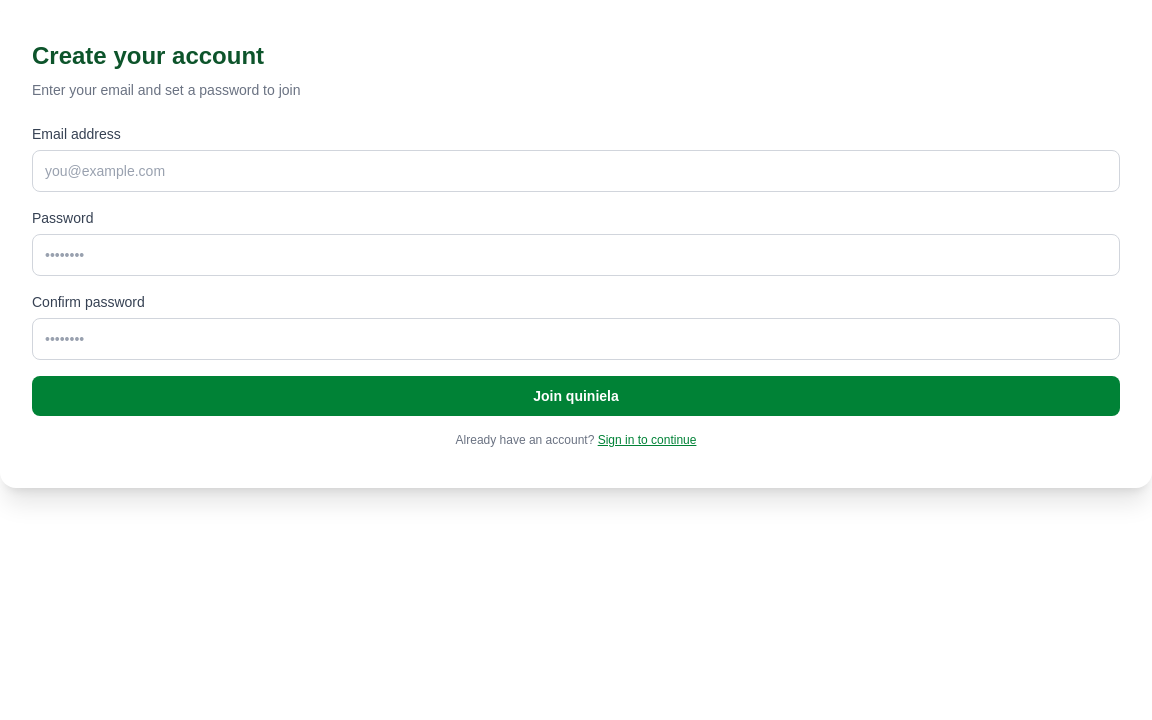
Scenario: InviteAcceptanceFlow (shortCode) › shows error when registration fails
Type "new@example.com" into the field labelled "Email address" at (576, 171), box [32,150,1120,192]
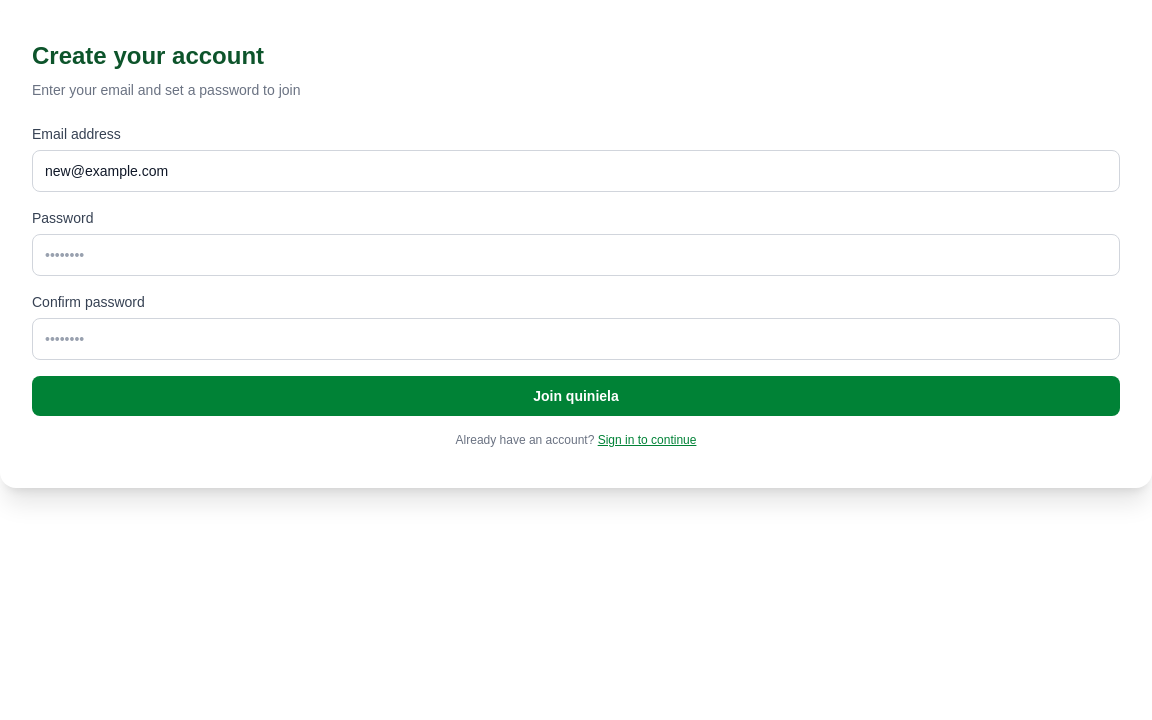
Type "password123" into the password field labelled "Password" at (576, 255), box [32,234,1120,276]
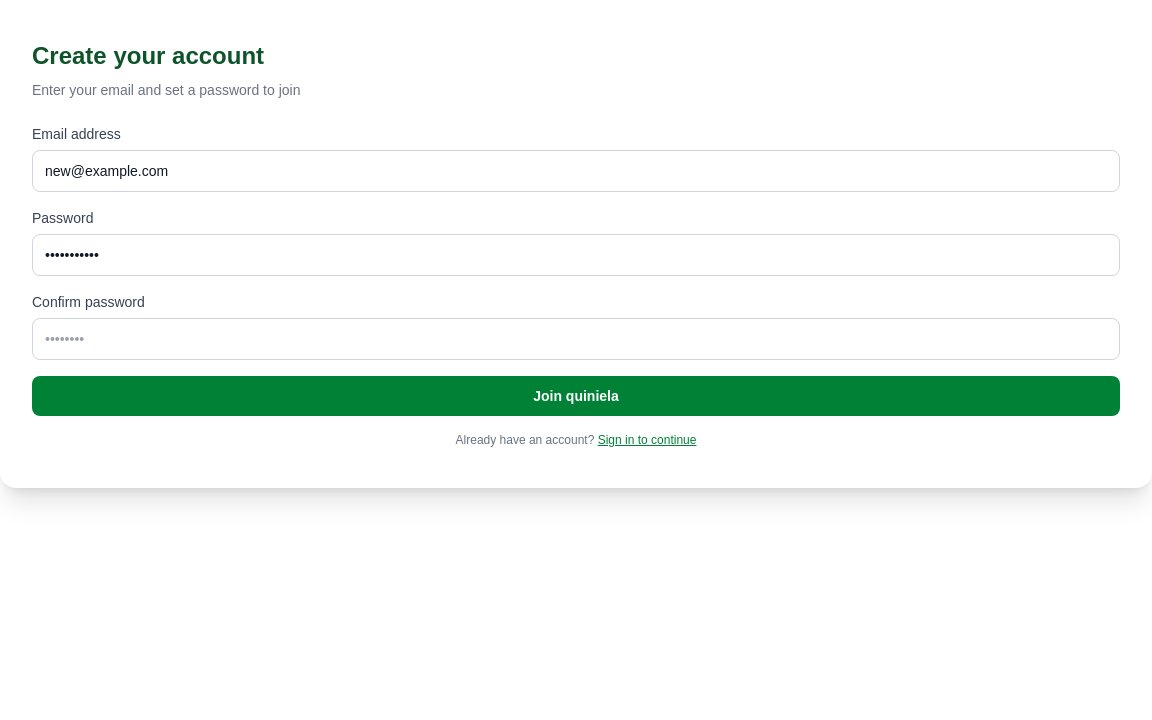
Type "password123" into the password field labelled "Confirm password" at (576, 339), box [32,318,1120,360]
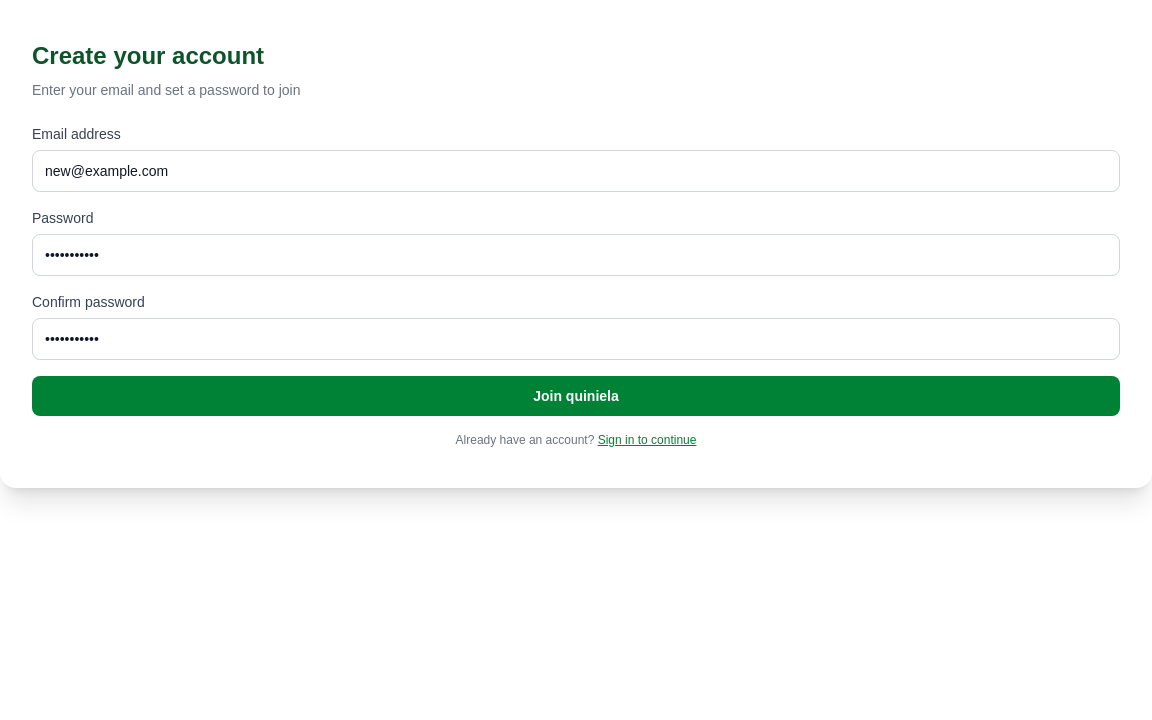
Submit the form labelled "Password", box [32,124,1120,448]
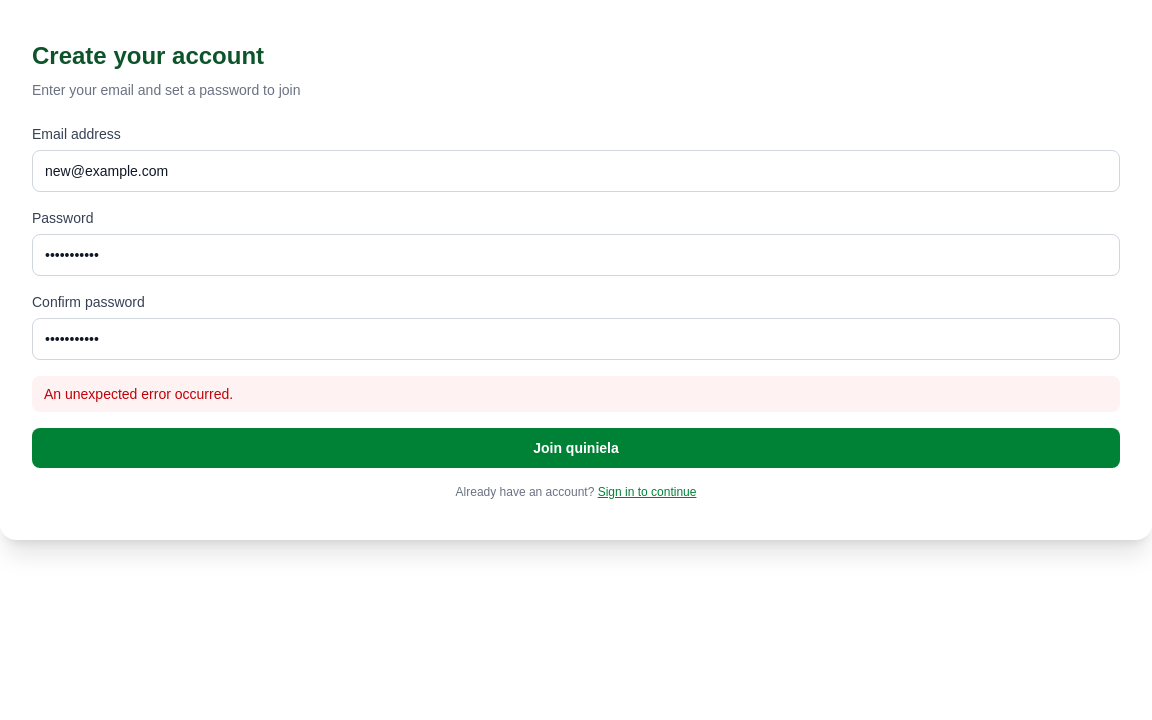
Check: the text "An unexpected error occurred." is shown, box [32,376,1120,412]
